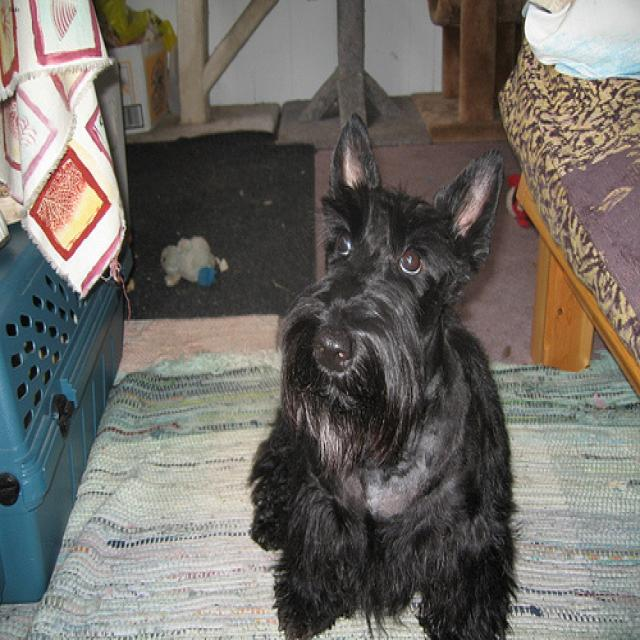dog-scottish_terrier: (241, 104, 522, 637)
